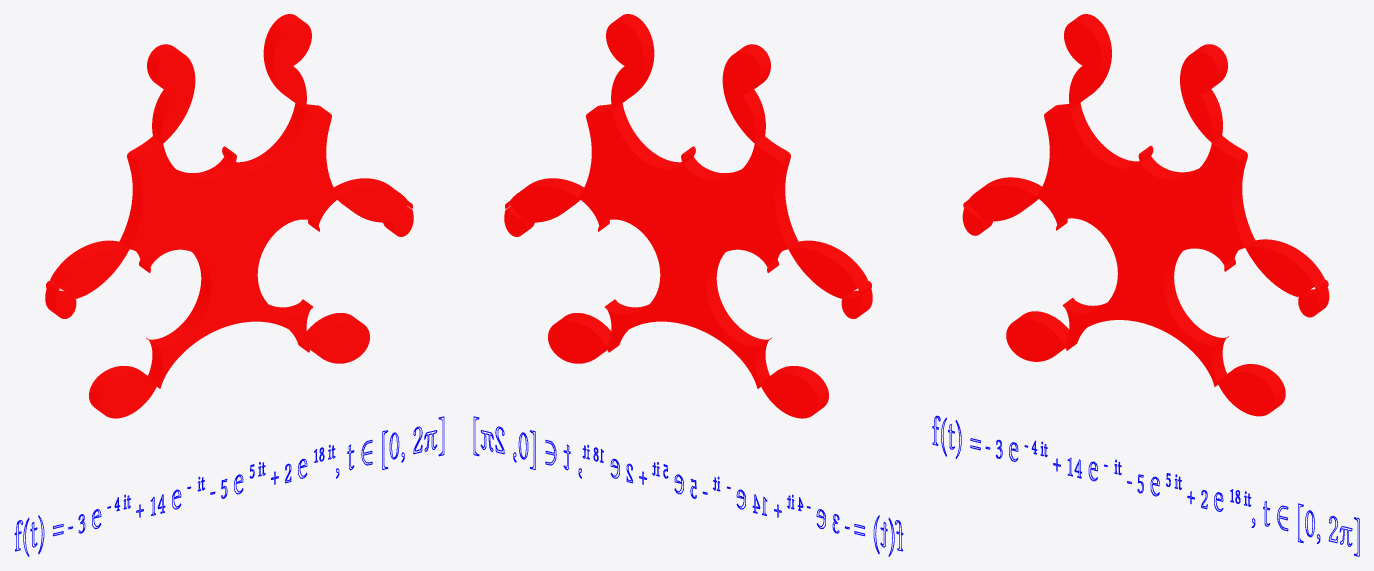
File: SimpleBeauty52.glb
3 renders of one model, left to right at view 1: azimuth 30°, elevation 25°; view 2: azimuth 150°, elevation 25°; view 3: azimuth 330°, elevation 25°, orthographic.
Size of the model in its own units: 1.2 by 1.27 by 0.05.
